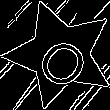O_NE: (27, 21, 93, 87)
